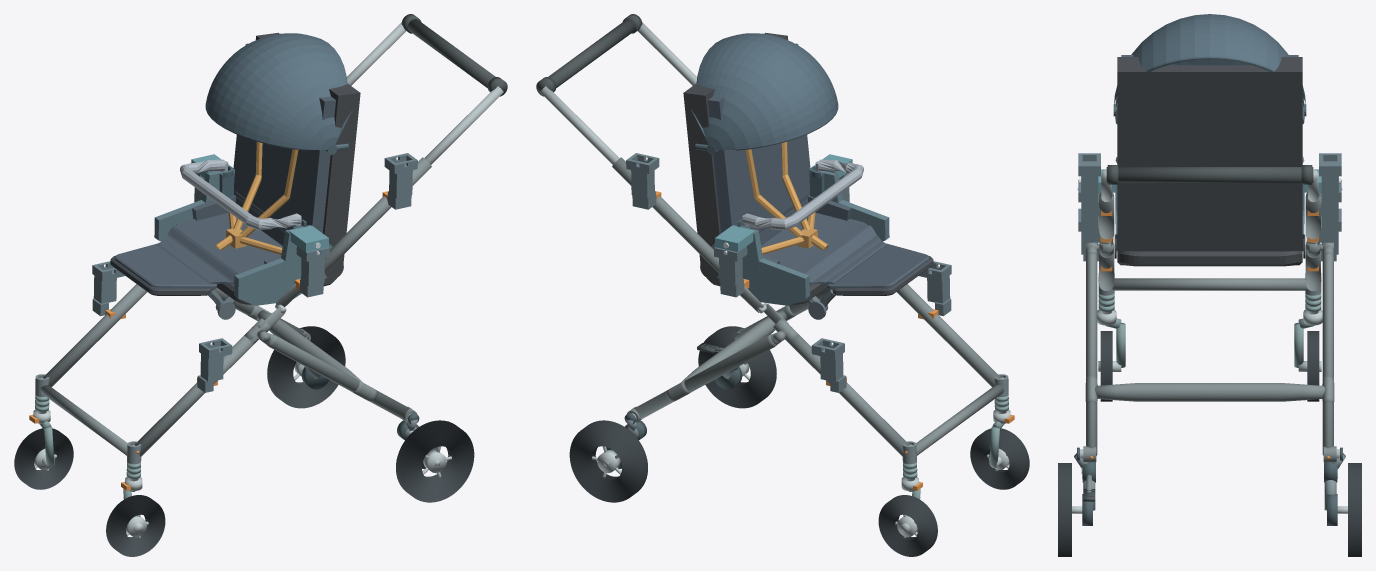
File: S05_w550_state1_wheel_S.glb
3 views of the same model, side by side, from view 1: azimuth 30°, elevation 25°; view 2: azimuth 150°, elevation 25°; view 3: azimuth 270°, elevation 25° (orthographic). The views are drawn at different scales.
Parts seen in each view (by area): view 1: S05_Cabin, S05_Cabin_Mount_M, RL_tire.002, RR_tire.002, FL_tire.002, FR_tire.002, V46_rear_leg_-1.003, main_lower_1.003, main_lower_-1.003, round_handle.002, main_upper_-1.003, Universal_Cabin_Receiver_H_-1 (+7 smaller); view 2: S05_Cabin, S05_Cabin_Mount_M, RR_tire.002, RL_tire.002, FR_tire.002, FL_tire.002, V46_rear_leg_1.003, main_lower_-1.003, main_lower_1.003, round_handle.002, main_upper_1.003, Universal_Cabin_Receiver_H_1 (+7 smaller); view 3: S05_Cabin, V46_rearbar.003, round_handle.002, front_fixed_round_tube.002, V46_rear_leg_1.003, V46_rear_leg_-1.003, RL_tire.002, RR_tire.002, Universal_Cabin_Receiver_H_1, Universal_Cabin_Receiver_H_-1, FL_tire.002, FR_tire.002 (+9 smaller).
Boxes of the visible parts, bbox=[...] form: S05_Cabin: bbox=[110, 32, 360, 319]; S05_Cabin_Mount_M: bbox=[154, 154, 332, 305]; RL_tire.002: bbox=[396, 420, 474, 502]; RR_tire.002: bbox=[267, 326, 345, 408]; FL_tire.002: bbox=[106, 495, 165, 556]; FR_tire.002: bbox=[14, 428, 73, 489]; V46_rear_leg_-1.003: bbox=[267, 334, 409, 419]; main_lower_1.003: bbox=[43, 284, 146, 387]; main_lower_-1.003: bbox=[135, 335, 257, 456]; round_handle.002: bbox=[408, 19, 506, 94]; main_upper_-1.003: bbox=[324, 157, 431, 273]; Universal_Cabin_Receiver_H_-1: bbox=[384, 153, 417, 209]; S05_Cabin: bbox=[683, 32, 933, 319]; S05_Cabin_Mount_M: bbox=[711, 154, 889, 305]; RR_tire.002: bbox=[569, 420, 647, 502]; RL_tire.002: bbox=[698, 326, 776, 408]; FR_tire.002: bbox=[878, 495, 937, 556]; FL_tire.002: bbox=[970, 428, 1029, 489]; V46_rear_leg_1.003: bbox=[634, 334, 776, 419]; main_lower_-1.003: bbox=[897, 284, 1000, 387]; main_lower_1.003: bbox=[786, 335, 908, 456]; round_handle.002: bbox=[537, 19, 635, 94]; main_upper_1.003: bbox=[612, 157, 719, 273]; Universal_Cabin_Receiver_H_1: bbox=[626, 153, 659, 209]; S05_Cabin: bbox=[1113, 14, 1306, 266]; V46_rearbar.003: bbox=[1095, 383, 1324, 401]; round_handle.002: bbox=[1106, 167, 1313, 182]; front_fixed_round_tube.002: bbox=[1112, 278, 1307, 290]; V46_rear_leg_1.003: bbox=[1322, 252, 1333, 455]; V46_rear_leg_-1.003: bbox=[1086, 252, 1097, 455]; RL_tire.002: bbox=[1058, 463, 1071, 556]; RR_tire.002: bbox=[1348, 463, 1361, 556]; Universal_Cabin_Receiver_H_1: bbox=[1319, 153, 1341, 216]; Universal_Cabin_Receiver_H_-1: bbox=[1078, 153, 1100, 216]; FL_tire.002: bbox=[1100, 331, 1112, 401]; FR_tire.002: bbox=[1307, 331, 1319, 401].
Size of the model in its own units: 1.11 by 1.14 by 0.6471.
